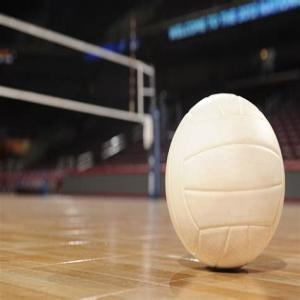Volley: (165, 93, 286, 273)
